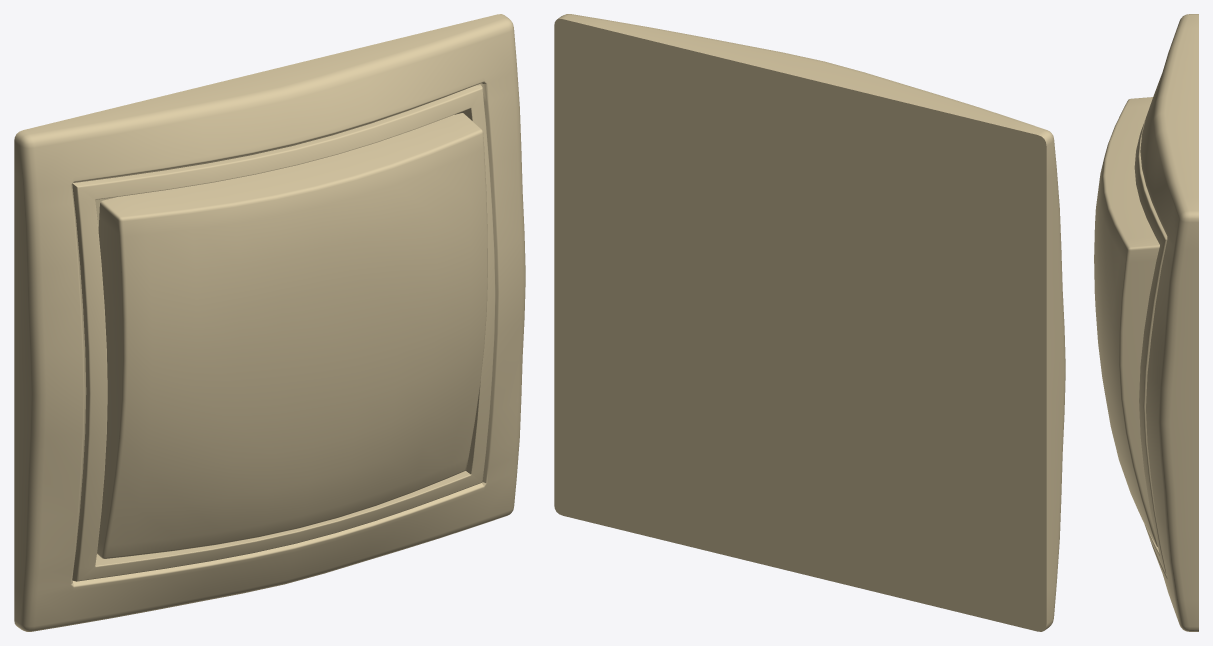
The model's file is Switch.FBX.
3 views of the same model, side by side, from view 1: azimuth 30°, elevation 25°; view 2: azimuth 150°, elevation 25°; view 3: azimuth 270°, elevation 25° (orthographic). The views are drawn at different scales.
Visible parts, largest first — view 1: Plane001; view 2: Plane001; view 3: Plane001.
Boxes of the visible parts, box(x1,y1,x2,y2) form: Plane001: box(14, 14, 525, 631); Plane001: box(554, 14, 1065, 631); Plane001: box(1094, 14, 1198, 631).
Bounding box in the file's own units: 83 × 80 × 18.11.
